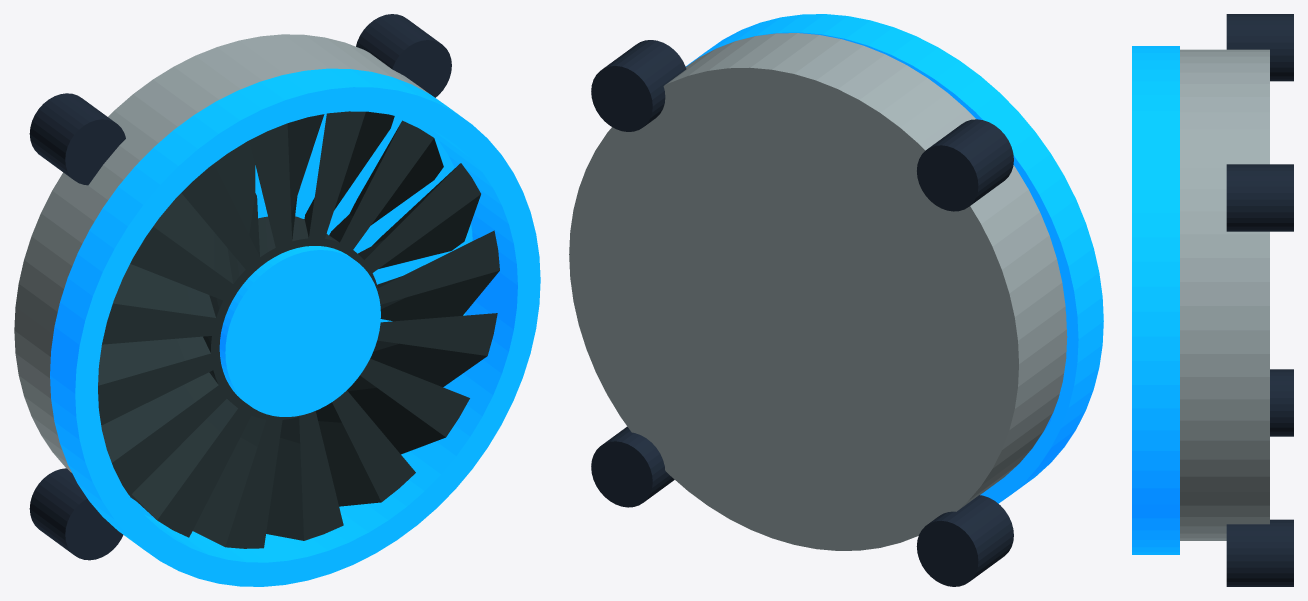
File: cooler.glb
3 renders of one model, left to right at view 1: azimuth 30°, elevation 25°; view 2: azimuth 150°, elevation 25°; view 3: azimuth 270°, elevation 25°, orthographic. The views are drawn at different scales.
Parts seen in each view (by area): view 1: Gear.018, Cylinder.057, Cylinder.058, Cube.144, Cube.143; view 2: Cylinder.058, Cylinder.057, Cube.144, Cube.143; view 3: Cylinder.058, Cylinder.057, Cube.144, Cube.143.
Part boxes in pixels (<box>): Gear.018: <box>98,111,499,548</box>; Cylinder.057: <box>50,68,540,586</box>; Cylinder.058: <box>14,34,428,472</box>; Cube.144: <box>29,14,451,185</box>; Cube.143: <box>29,468,123,560</box>; Cylinder.058: <box>569,33,1067,550</box>; Cylinder.057: <box>685,14,1103,503</box>; Cube.144: <box>591,40,1013,211</box>; Cube.143: <box>591,426,1013,586</box>; Cylinder.058: <box>1180,49,1269,540</box>; Cylinder.057: <box>1132,46,1179,554</box>; Cube.144: <box>1226,14,1293,231</box>; Cube.143: <box>1226,369,1293,586</box>.
Size of the model in its own units: 0.8629 by 0.8629 by 0.2741.
4 materials, 2 textured.
